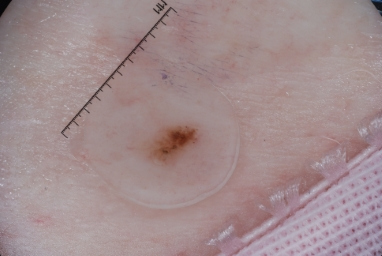seborrheic keratosis: (100, 101, 235, 202)
